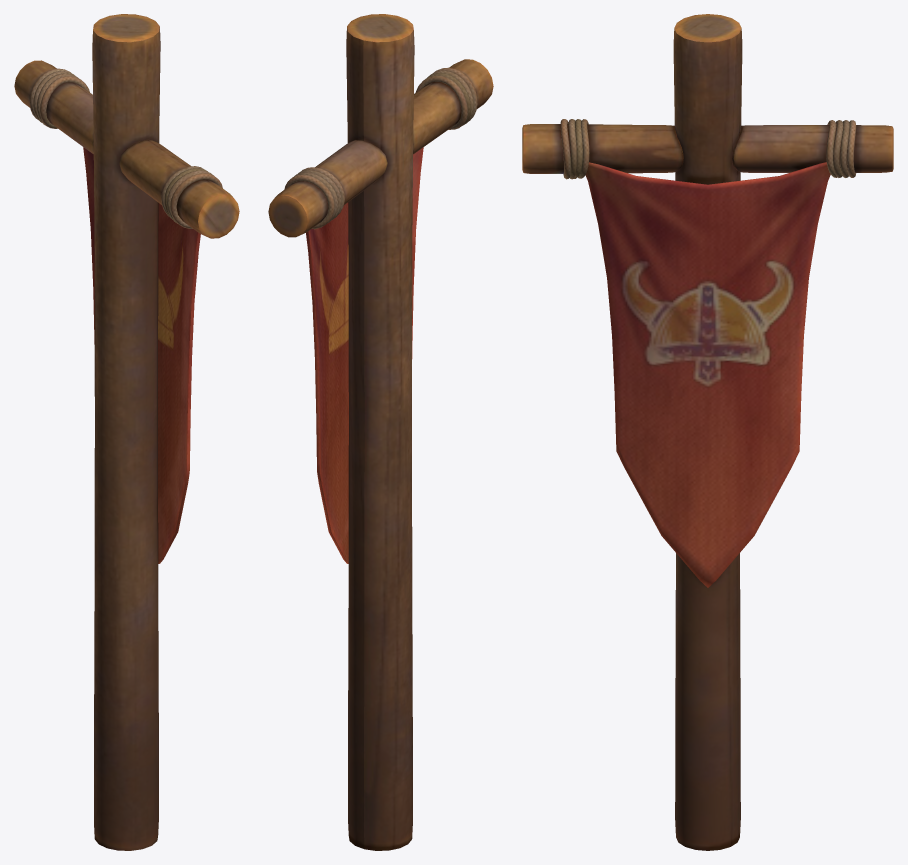
Rendered from qizi.FBX.
3 views of the same model, side by side, from view 1: azimuth 30°, elevation 25°; view 2: azimuth 150°, elevation 25°; view 3: azimuth 270°, elevation 25° (orthographic).
Visible parts, largest first — view 1: Object004, Object005; view 2: Object004, Object005; view 3: Object005, Object004.
Part boxes in pixels (x1,y1,x2,y2): Object004: (14, 14, 239, 850); Object005: (83, 147, 200, 563); Object004: (268, 14, 493, 850); Object005: (306, 147, 423, 563); Object005: (585, 162, 830, 587); Object004: (522, 14, 893, 850).
Bounding box in the file's own units: 49.07 × 599 × 249.
